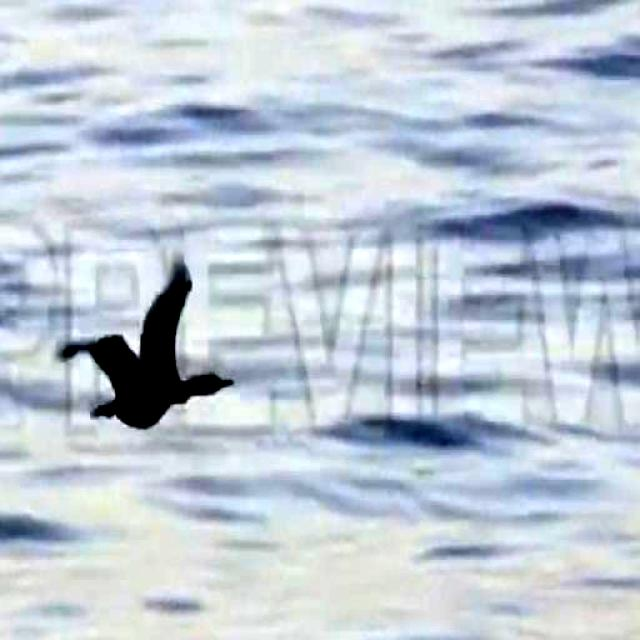airplane: (70, 255, 239, 469)
